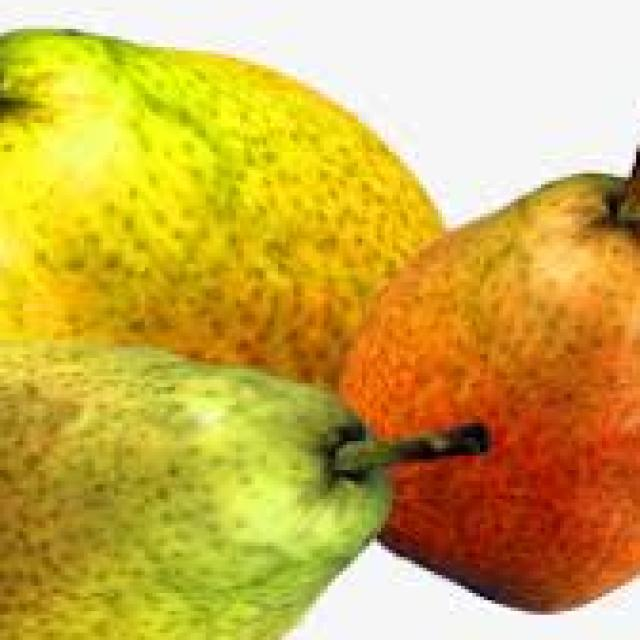inorganic: (9, 22, 448, 437), (13, 335, 498, 627), (367, 163, 630, 595)
